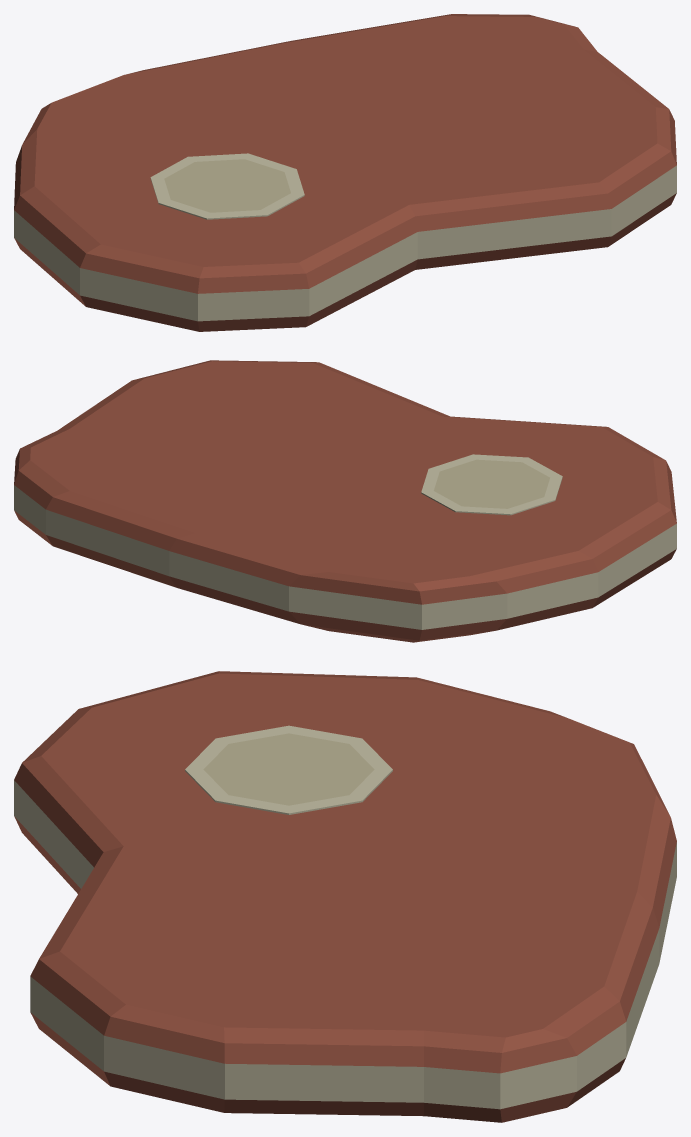
Rendered from MeatCoocked-Lowpoly.fbx.
The picture shows the model from 3 angles, top to bottom: view 1: azimuth 30°, elevation 25°; view 2: azimuth 150°, elevation 25°; view 3: azimuth 270°, elevation 25°; orthographic projection. The views are drawn at different scales.
Visible parts, largest first — view 1: MeatCoocked; view 2: MeatCoocked; view 3: MeatCoocked.
Part boxes in pixels (x1,y1,x2,y2): MeatCoocked: (14, 14, 676, 331); MeatCoocked: (14, 360, 676, 642); MeatCoocked: (14, 671, 676, 1122).
Bounding box in the file's own units: 123 × 12.89 × 88.79.
